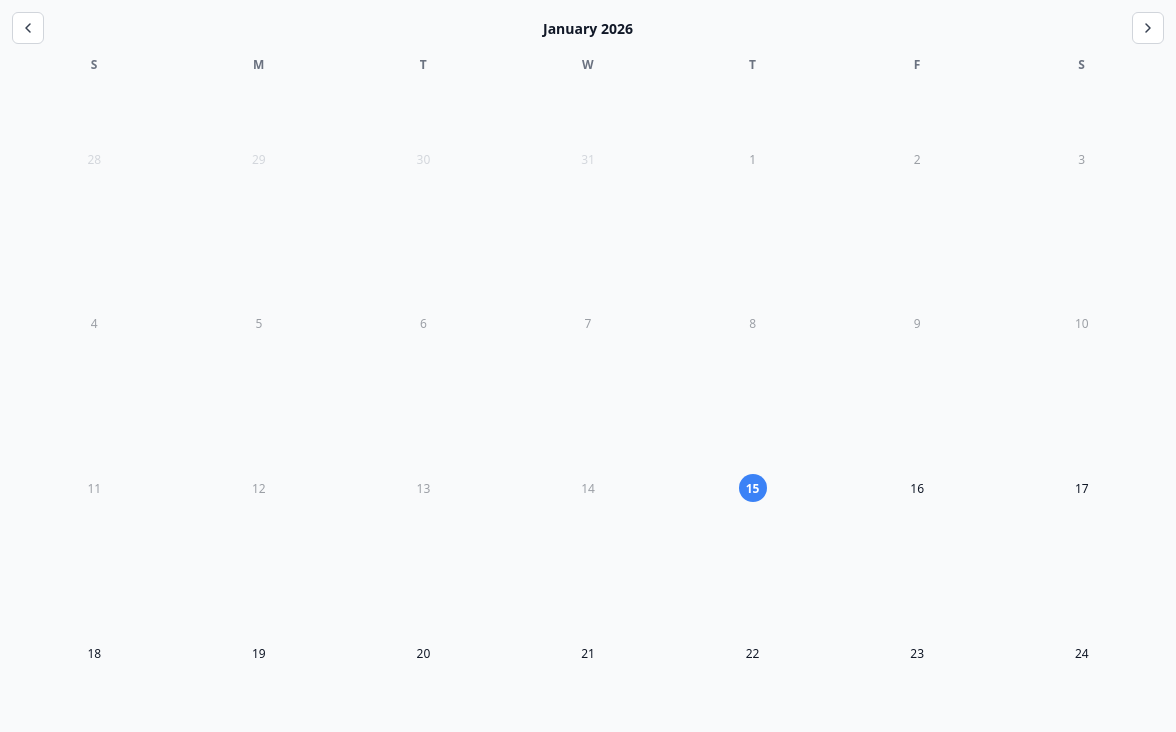
Test: DateRangePicker › edge cases › handles year transitions when navigating backwards from January
The width and height of the screenshot is (1176, 732).
Click the button named "Previous month" at (28, 28), box [12,12,44,44]
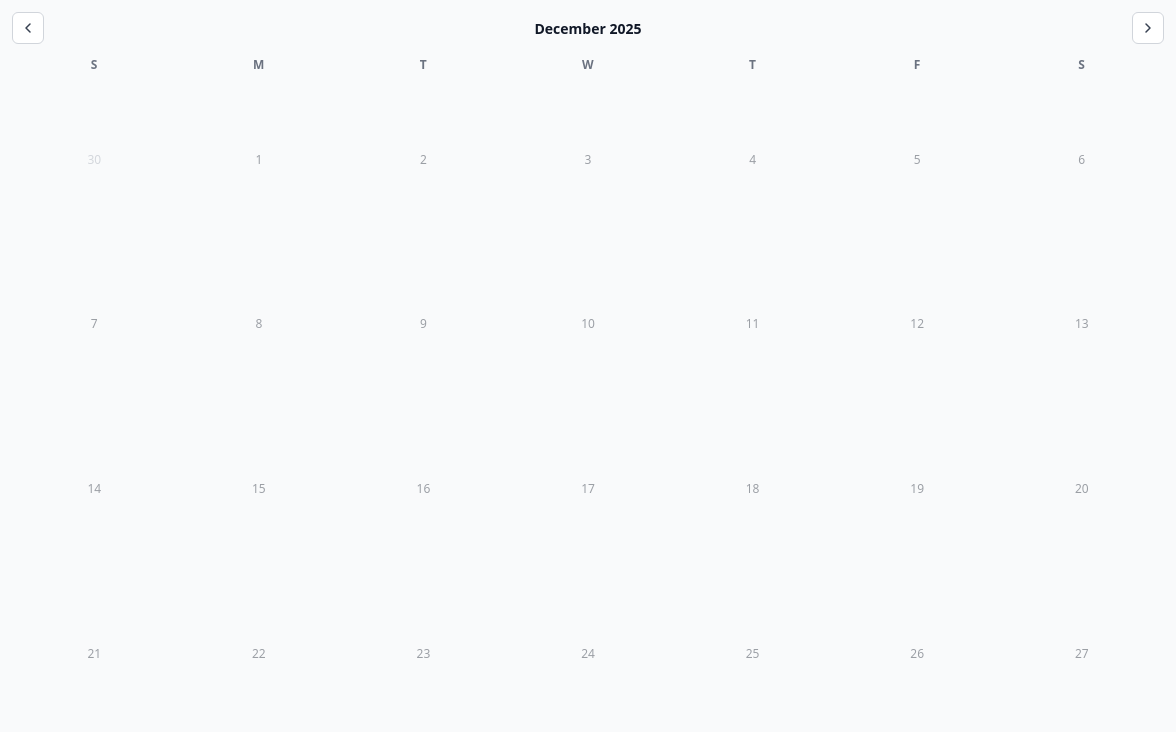
Check: the text with class "monthLabel" shows "2025", box [610,18,642,38]
Check: the text with class "monthLabel" shows "December", box [534,18,606,38]
